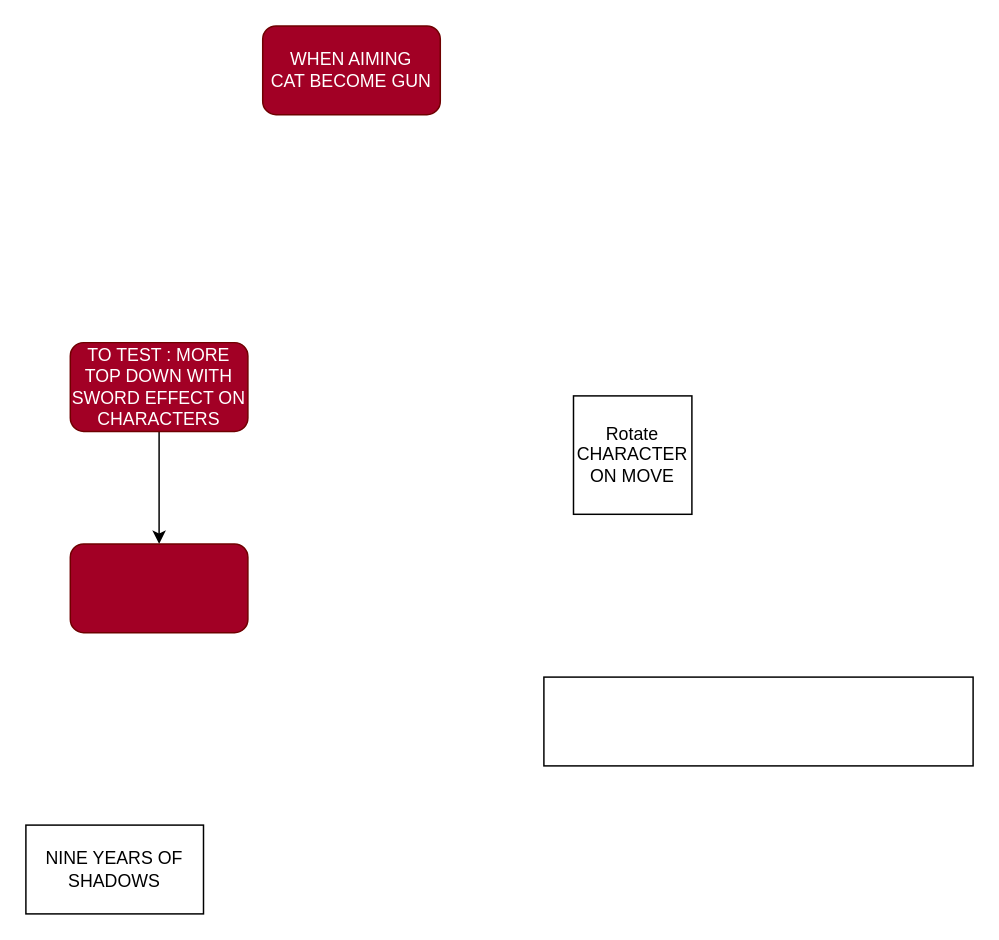
Some shapes in this 999 by 940 pixel diagram are drawn without their labels. The centre of each missing label's shape, as x and y in pixels:
ALICE RETURN TO MADNESS: (757,721)
SPRITE ROTATION: (158,587)
